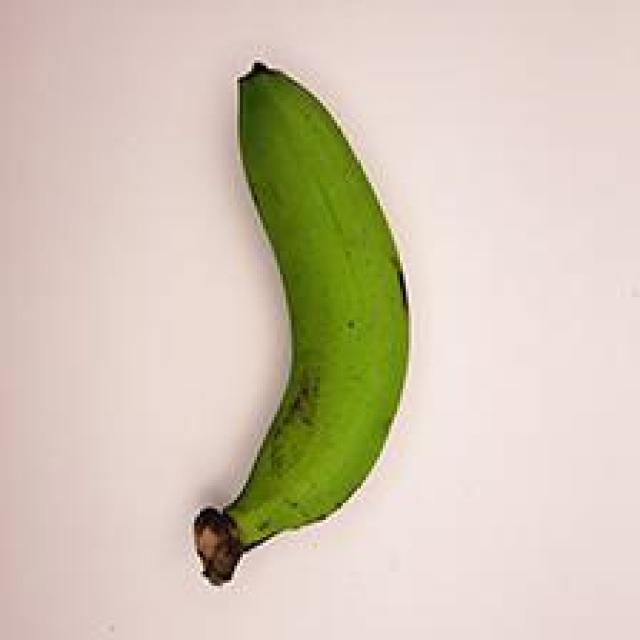Raw: (124, 31, 446, 598)
